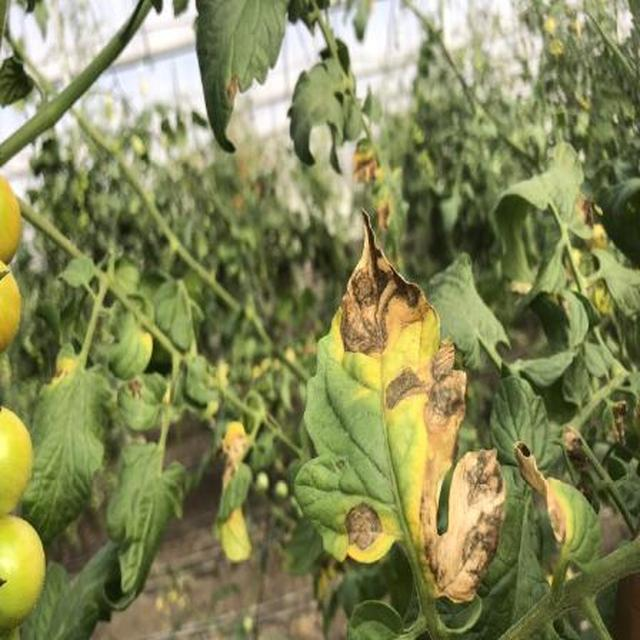Early Blight Leaf: (414, 296, 640, 640)
